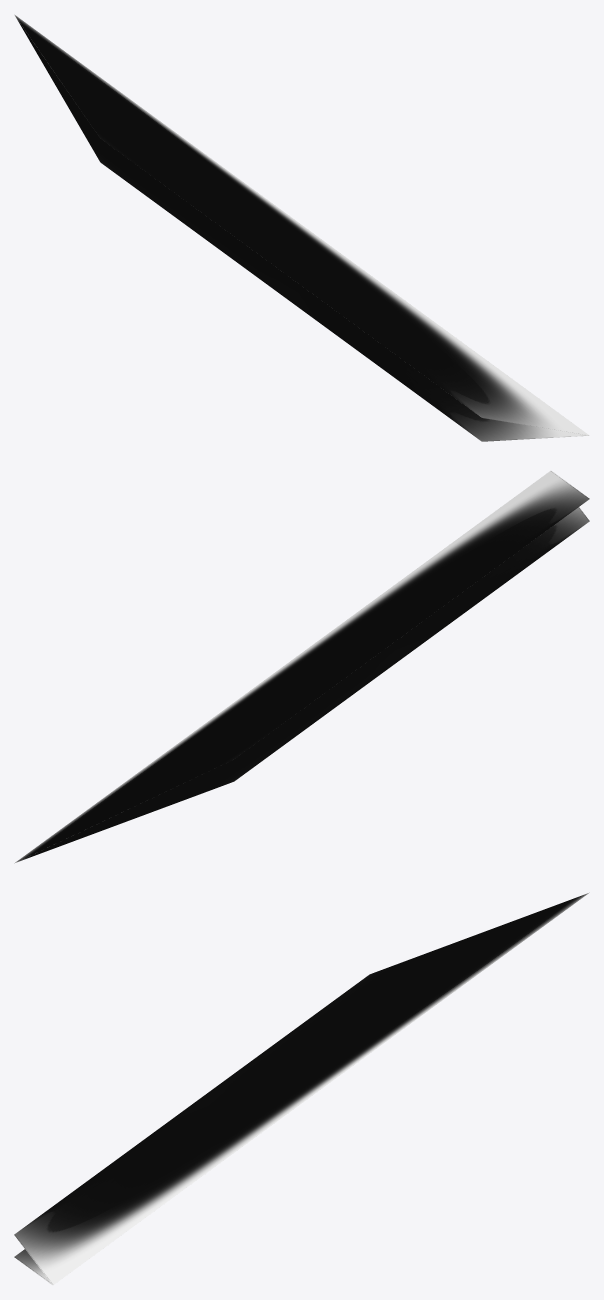
The model's file is Straight.fbx.
3 views of the same model, one above another, from view 1: azimuth 30°, elevation 25°; view 2: azimuth 150°, elevation 25°; view 3: azimuth 330°, elevation 25° (orthographic). The views are drawn at different scales.
Parts seen in each view (by area): view 1: Slash_UV; view 2: Slash_UV; view 3: Slash_UV.
Part boxes in pixels (x1=…): Slash_UV: x1=14, y1=14, x2=589, y2=441; Slash_UV: x1=14, y1=470, x2=589, y2=863; Slash_UV: x1=14, y1=892, x2=589, y2=1285.
Bounding box in the file's own units: 99.8 × 30.43 × 1328.
